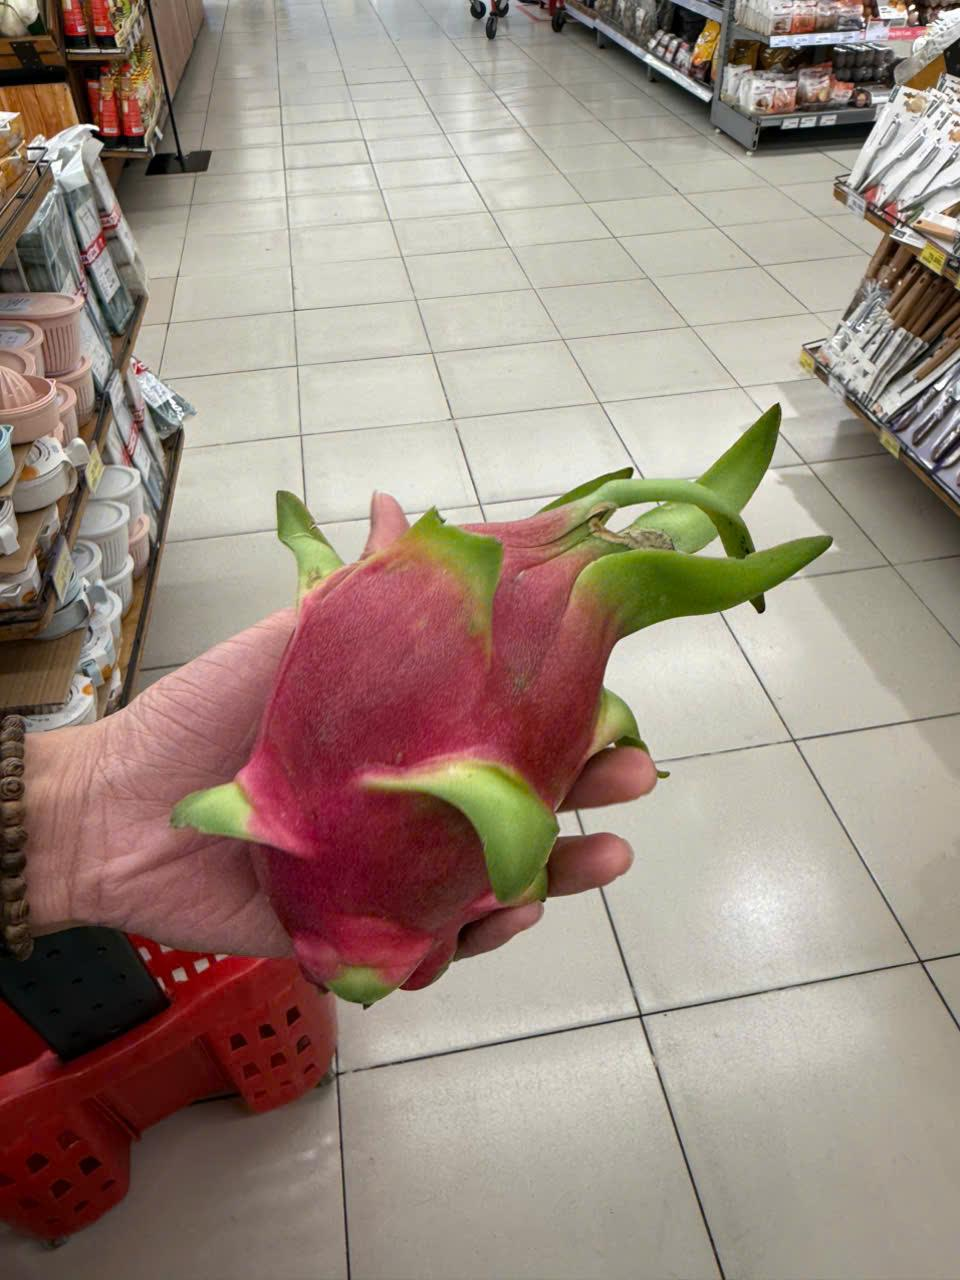dragon fruit: (210, 398, 854, 1002)
